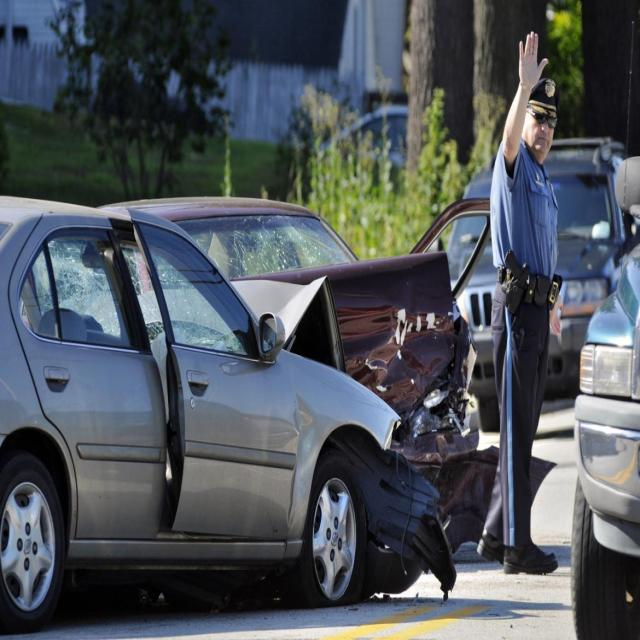crush: (230, 275, 457, 601), (232, 251, 480, 527)
